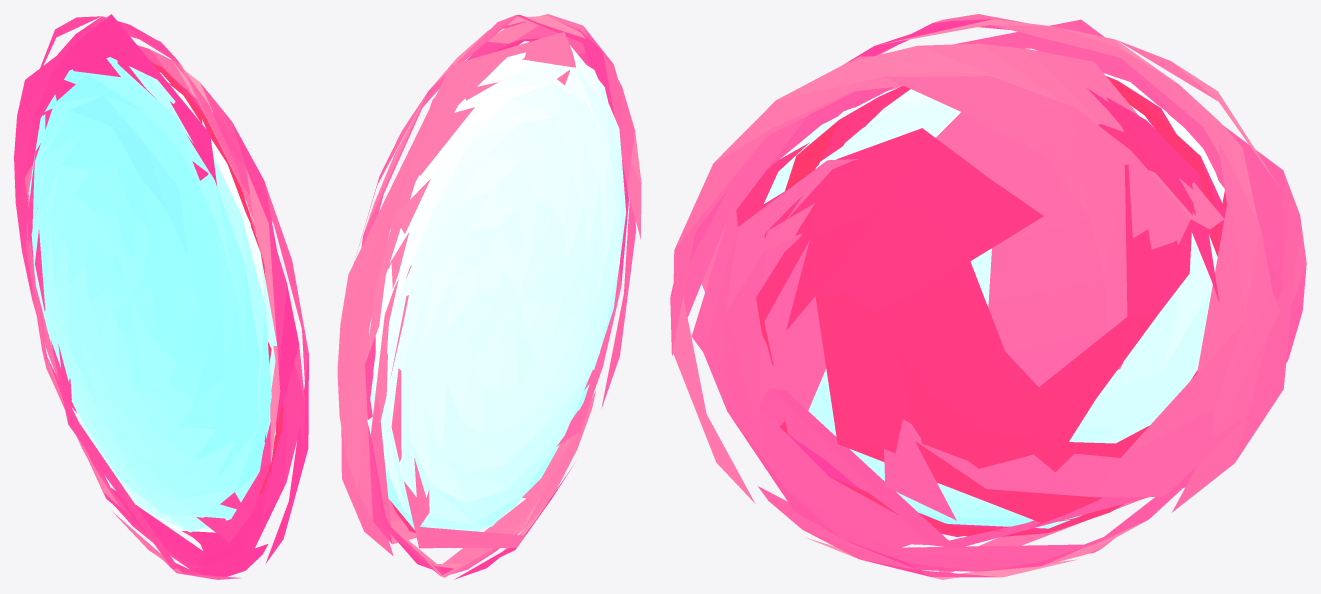
Rendered from fireAttack.fbx.
The picture shows the model from 3 angles, left to right: view 1: azimuth 30°, elevation 25°; view 2: azimuth 150°, elevation 25°; view 3: azimuth 270°, elevation 25°; orthographic projection. The views are drawn at different scales.
Parts seen in each view (by area): view 1: Sphere.002, Sphere; view 2: Sphere.002, Sphere; view 3: Sphere, Sphere.002.
Boxes of the visible parts, x1,y1,x2,y2 form: Sphere.002: [28, 57, 277, 532]; Sphere: [14, 14, 308, 579]; Sphere.002: [367, 41, 626, 531]; Sphere: [337, 14, 641, 579]; Sphere: [670, 14, 1306, 579]; Sphere.002: [764, 48, 1224, 528].
Size of the model in its own units: 25 by 231 by 235.
